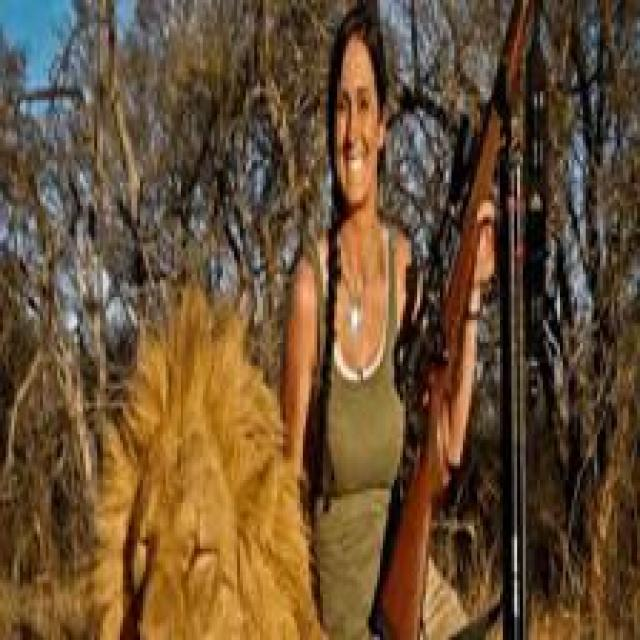Lion: (58, 243, 322, 640)
Rifle: (404, 0, 550, 623)
